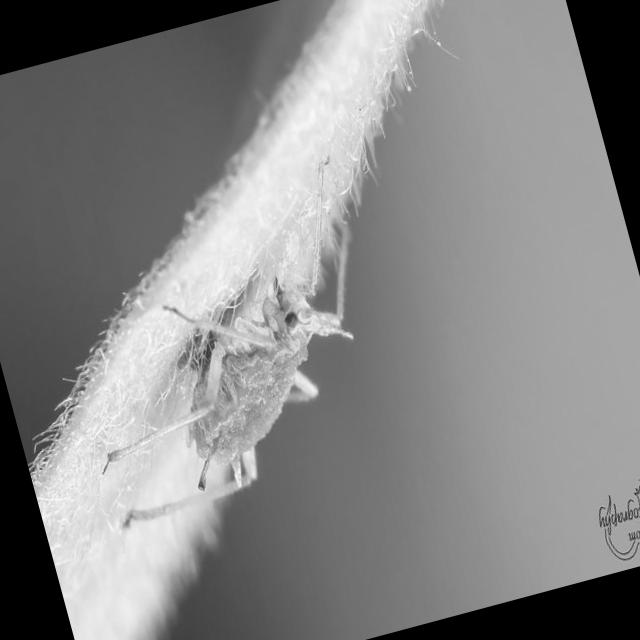Aphids: (35, 184, 418, 570)
